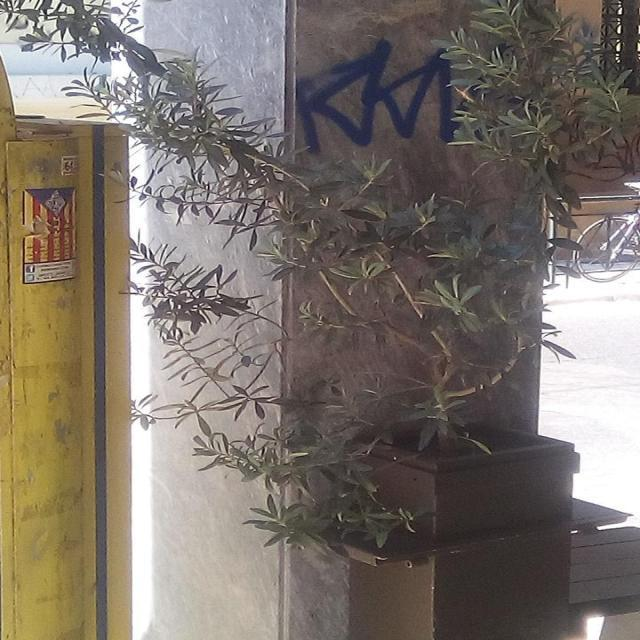nonspitting: (293, 34, 464, 156)
